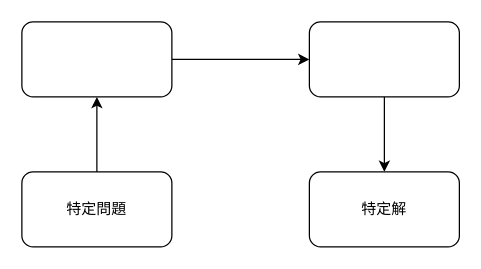
Some shapes in this 481 by 269 pixel diagram are drawn without their labels. Each missing label, with the centre of its shape:
"TRIZ 一般問題" goes at [96,59].
"TRIZ 一般解" goes at [383,59].
